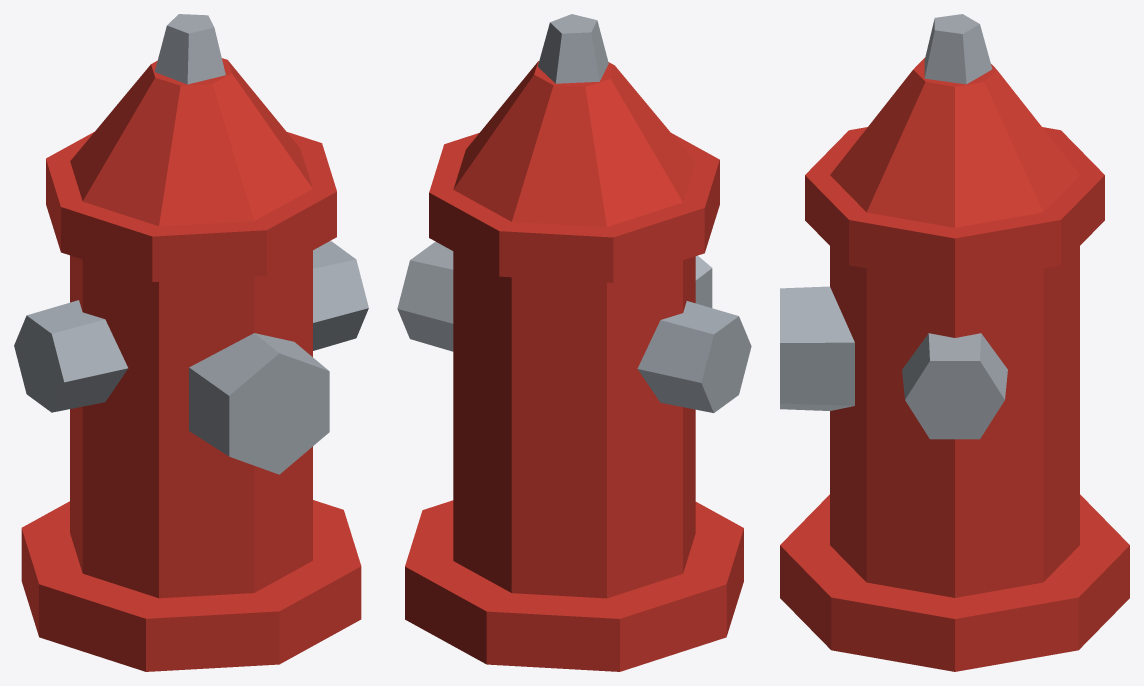
File: Fire_Hydrant.glb
3 renders of one model, left to right at view 1: azimuth 30°, elevation 25°; view 2: azimuth 150°, elevation 25°; view 3: azimuth 270°, elevation 25°, orthographic.
Visible parts, largest first — view 1: Fire_Hydrant_Mesh; view 2: Fire_Hydrant_Mesh; view 3: Fire_Hydrant_Mesh.
Boxes of the visible parts, x1,y1,x2,y2 form: Fire_Hydrant_Mesh: (14,14,368,671); Fire_Hydrant_Mesh: (397,14,751,671); Fire_Hydrant_Mesh: (780,14,1129,671).
Size of the model in its own units: 0.42 by 0.76 by 0.42.
1 material, 1 textured.
